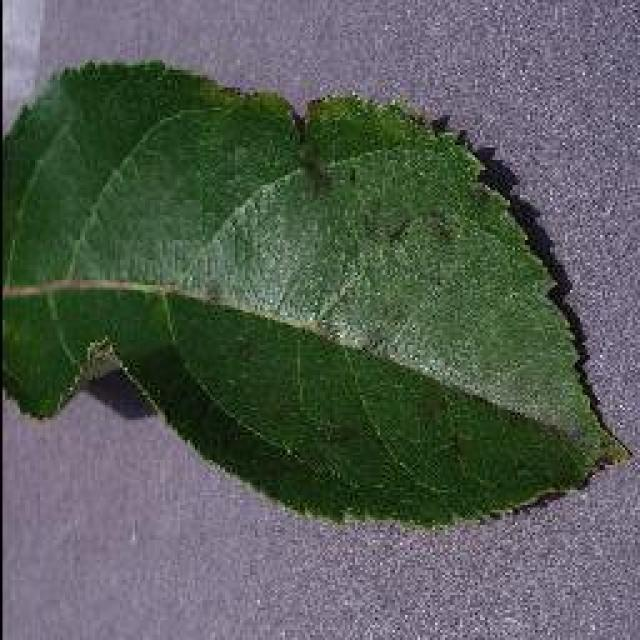apple scab disease: (0, 55, 632, 530)
